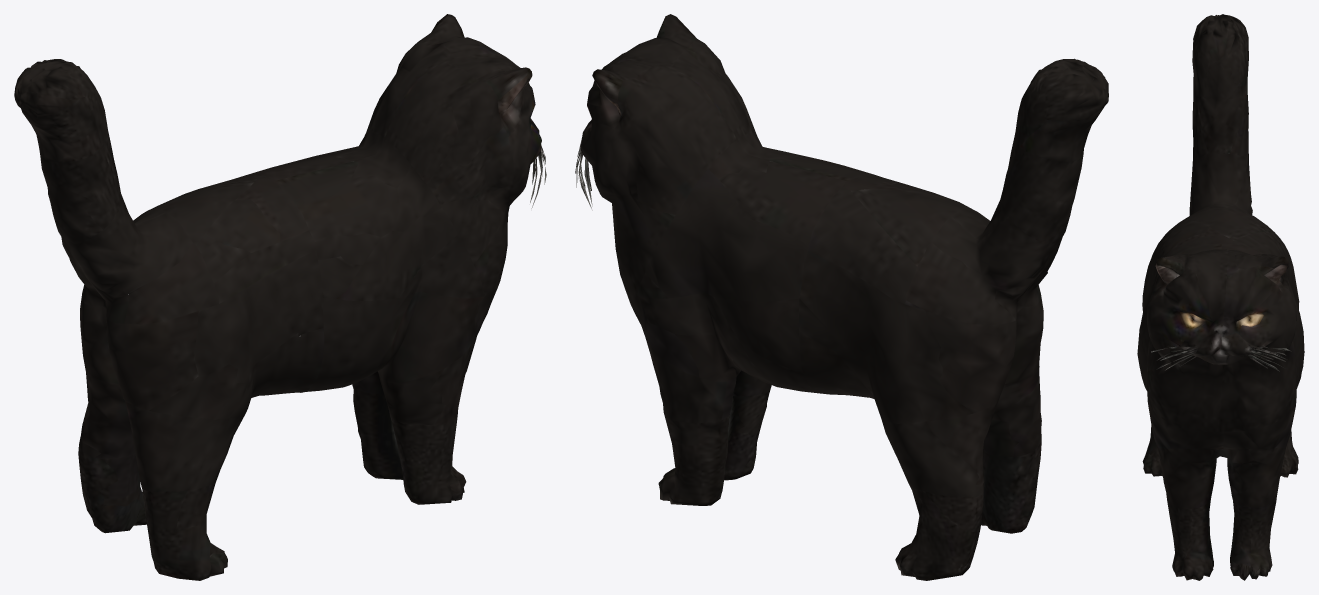
The model's file is TORAHIKO-lo.glb.
3 views of the same model, side by side, from view 1: azimuth 30°, elevation 25°; view 2: azimuth 150°, elevation 25°; view 3: azimuth 270°, elevation 25° (orthographic). The views are drawn at different scales.
Parts seen in each view (by area): view 1: tripo_node_3a1b5c40-e727-43eb-9062-32d068b451fd; view 2: tripo_node_3a1b5c40-e727-43eb-9062-32d068b451fd; view 3: tripo_node_3a1b5c40-e727-43eb-9062-32d068b451fd.
Boxes of the visible parts, left/top/right/bottom form: tripo_node_3a1b5c40-e727-43eb-9062-32d068b451fd: left=14, top=14, right=546, bottom=580; tripo_node_3a1b5c40-e727-43eb-9062-32d068b451fd: left=575, top=14, right=1108, bottom=580; tripo_node_3a1b5c40-e727-43eb-9062-32d068b451fd: left=1137, top=14, right=1304, bottom=580.
Size of the model in its own units: 1.05 by 0.9997 by 0.369.
Materials: 1 (1 with a texture image).
